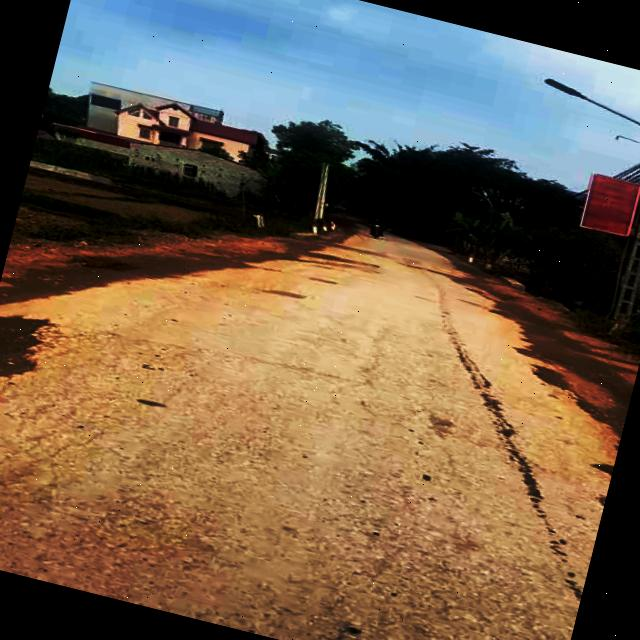pothole: (0, 299, 78, 392)
